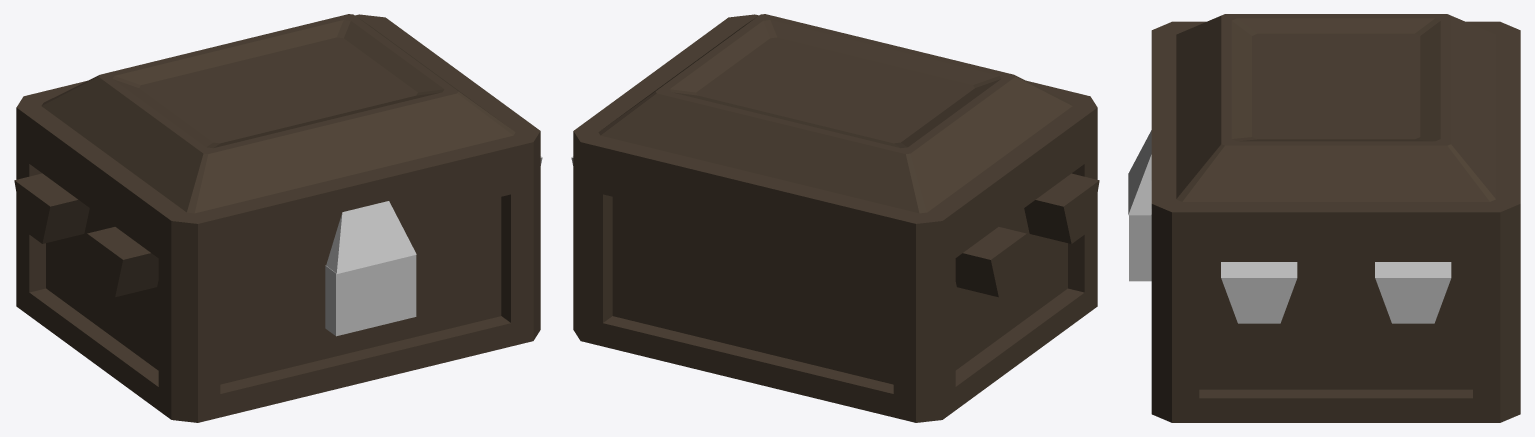
The model's file is CHESTBIG_ADD_STONE_LOCKED.OBJ.
The picture shows the model from 3 angles, left to right: view 1: azimuth 30°, elevation 25°; view 2: azimuth 150°, elevation 25°; view 3: azimuth 270°, elevation 25°; orthographic projection. The views are drawn at different scales.
Visible parts, largest first — view 1: CHESTBIG_ADD_STONE_LOCKED; view 2: CHESTBIG_ADD_STONE_LOCKED; view 3: CHESTBIG_ADD_STONE_LOCKED.
Boxes of the visible parts, left/top/right/bottom form: CHESTBIG_ADD_STONE_LOCKED: left=14, top=14, right=542, bottom=422; CHESTBIG_ADD_STONE_LOCKED: left=571, top=14, right=1099, bottom=422; CHESTBIG_ADD_STONE_LOCKED: left=1128, top=14, right=1520, bottom=422.
Size of the model in its own units: 1.25 by 0.6667 by 0.957.
